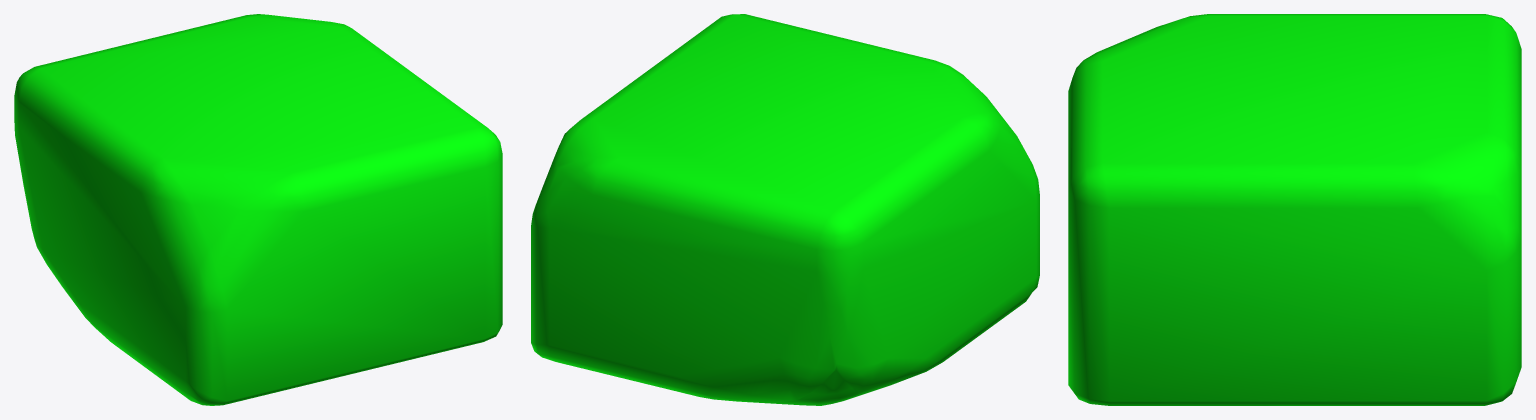
Rendered from Green_Crystal_11.fbx.
3 renders of one model, left to right at view 1: azimuth 30°, elevation 25°; view 2: azimuth 150°, elevation 25°; view 3: azimuth 270°, elevation 25°, orthographic. The views are drawn at different scales.
Visible parts, largest first — view 1: Green_Crystal_11; view 2: Green_Crystal_11; view 3: Green_Crystal_11.
Part boxes in pixels (x1,y1,x2,y2): Green_Crystal_11: [14, 14, 502, 405]; Green_Crystal_11: [531, 14, 1039, 405]; Green_Crystal_11: [1068, 14, 1521, 405].
Size of the model in its own units: 2.76 by 1.76 by 3.03.
